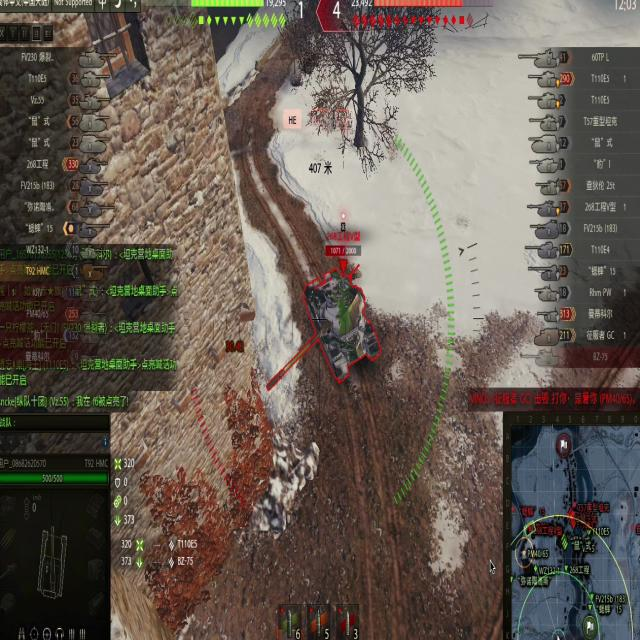tank: (296, 244, 386, 396)
